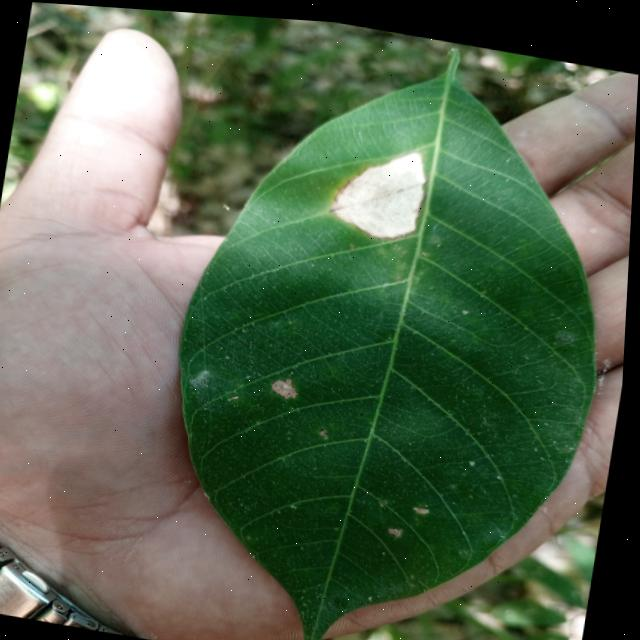Leaf-Blight: (329, 134, 434, 239)
